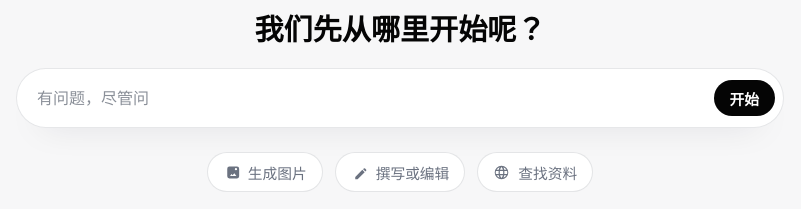
ChatPane › renders the empty state above the shared composer and fills the draft from suggestions
Expected: the element with class "chat-pane__composer-shell--prompt-bar" is shown, [16, 68, 784, 128]
Expected: the button with test id "send-button" reads "开始", [714, 80, 775, 116]
What coordinates should you click on to do the following:
click the button with test id "welcome-suggestion-0"
I would click on:
 (265, 172)
Its box is [207, 152, 323, 192].
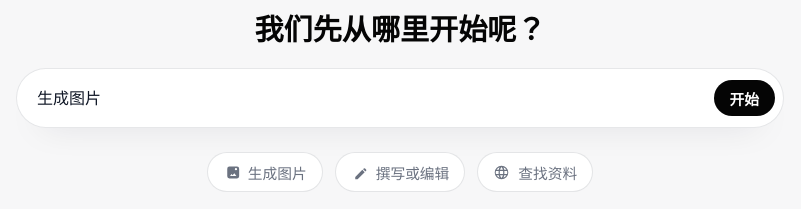
Expected: the text box holds "生成图片", [37, 86, 700, 110]
